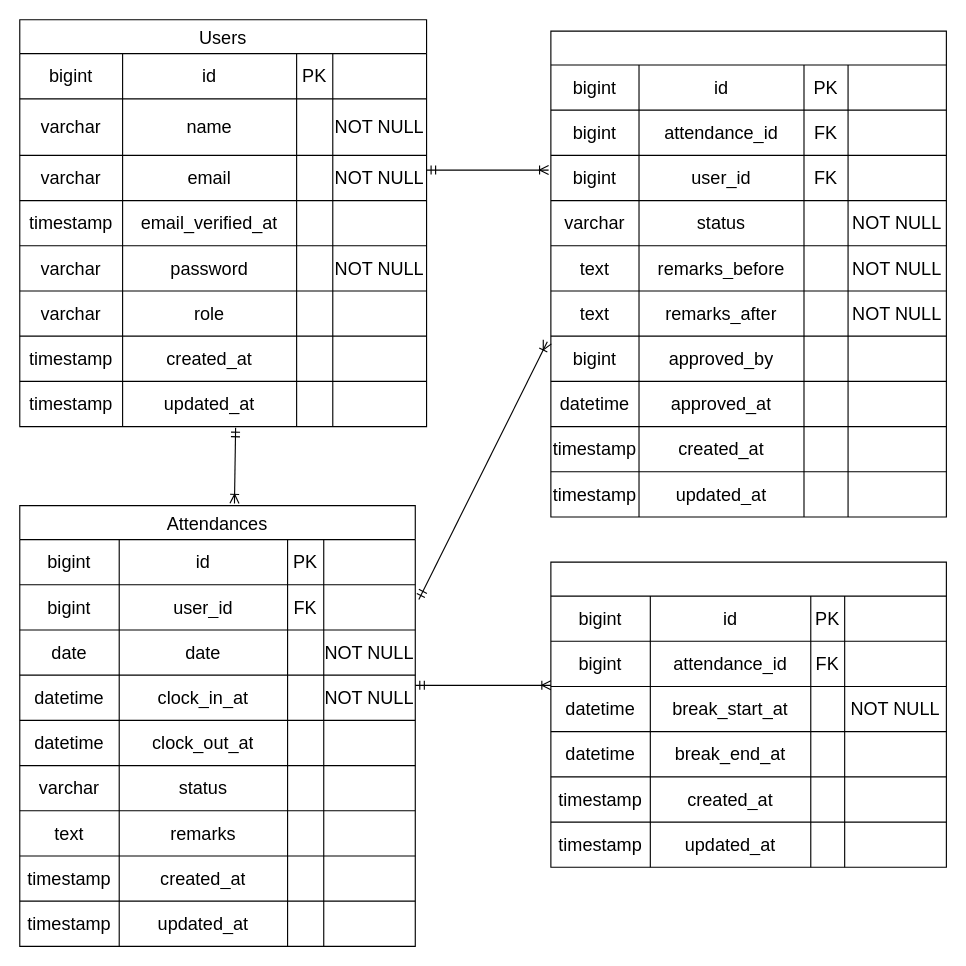
Image size: 966x966. Some labels were removed from this diagram. Each missing label, with the box of its shape:
Attendance_correction_requests: (550, 30, 946, 517)
Break_times: (550, 561, 946, 867)
